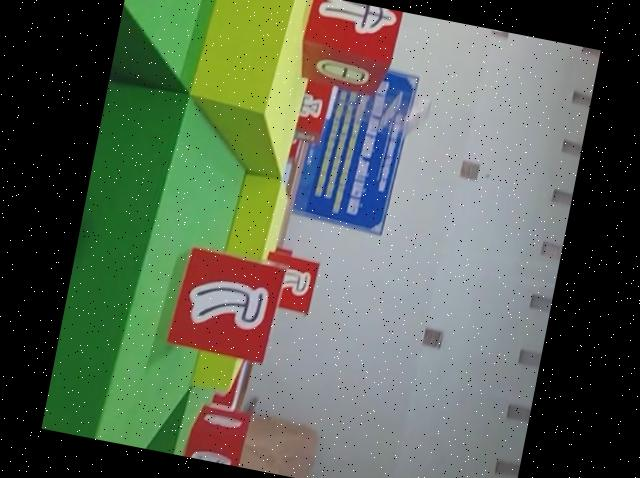R2 Fake: (164, 242, 288, 367), (290, 0, 404, 104), (253, 248, 325, 319)
R2 Real: (184, 402, 252, 467)
